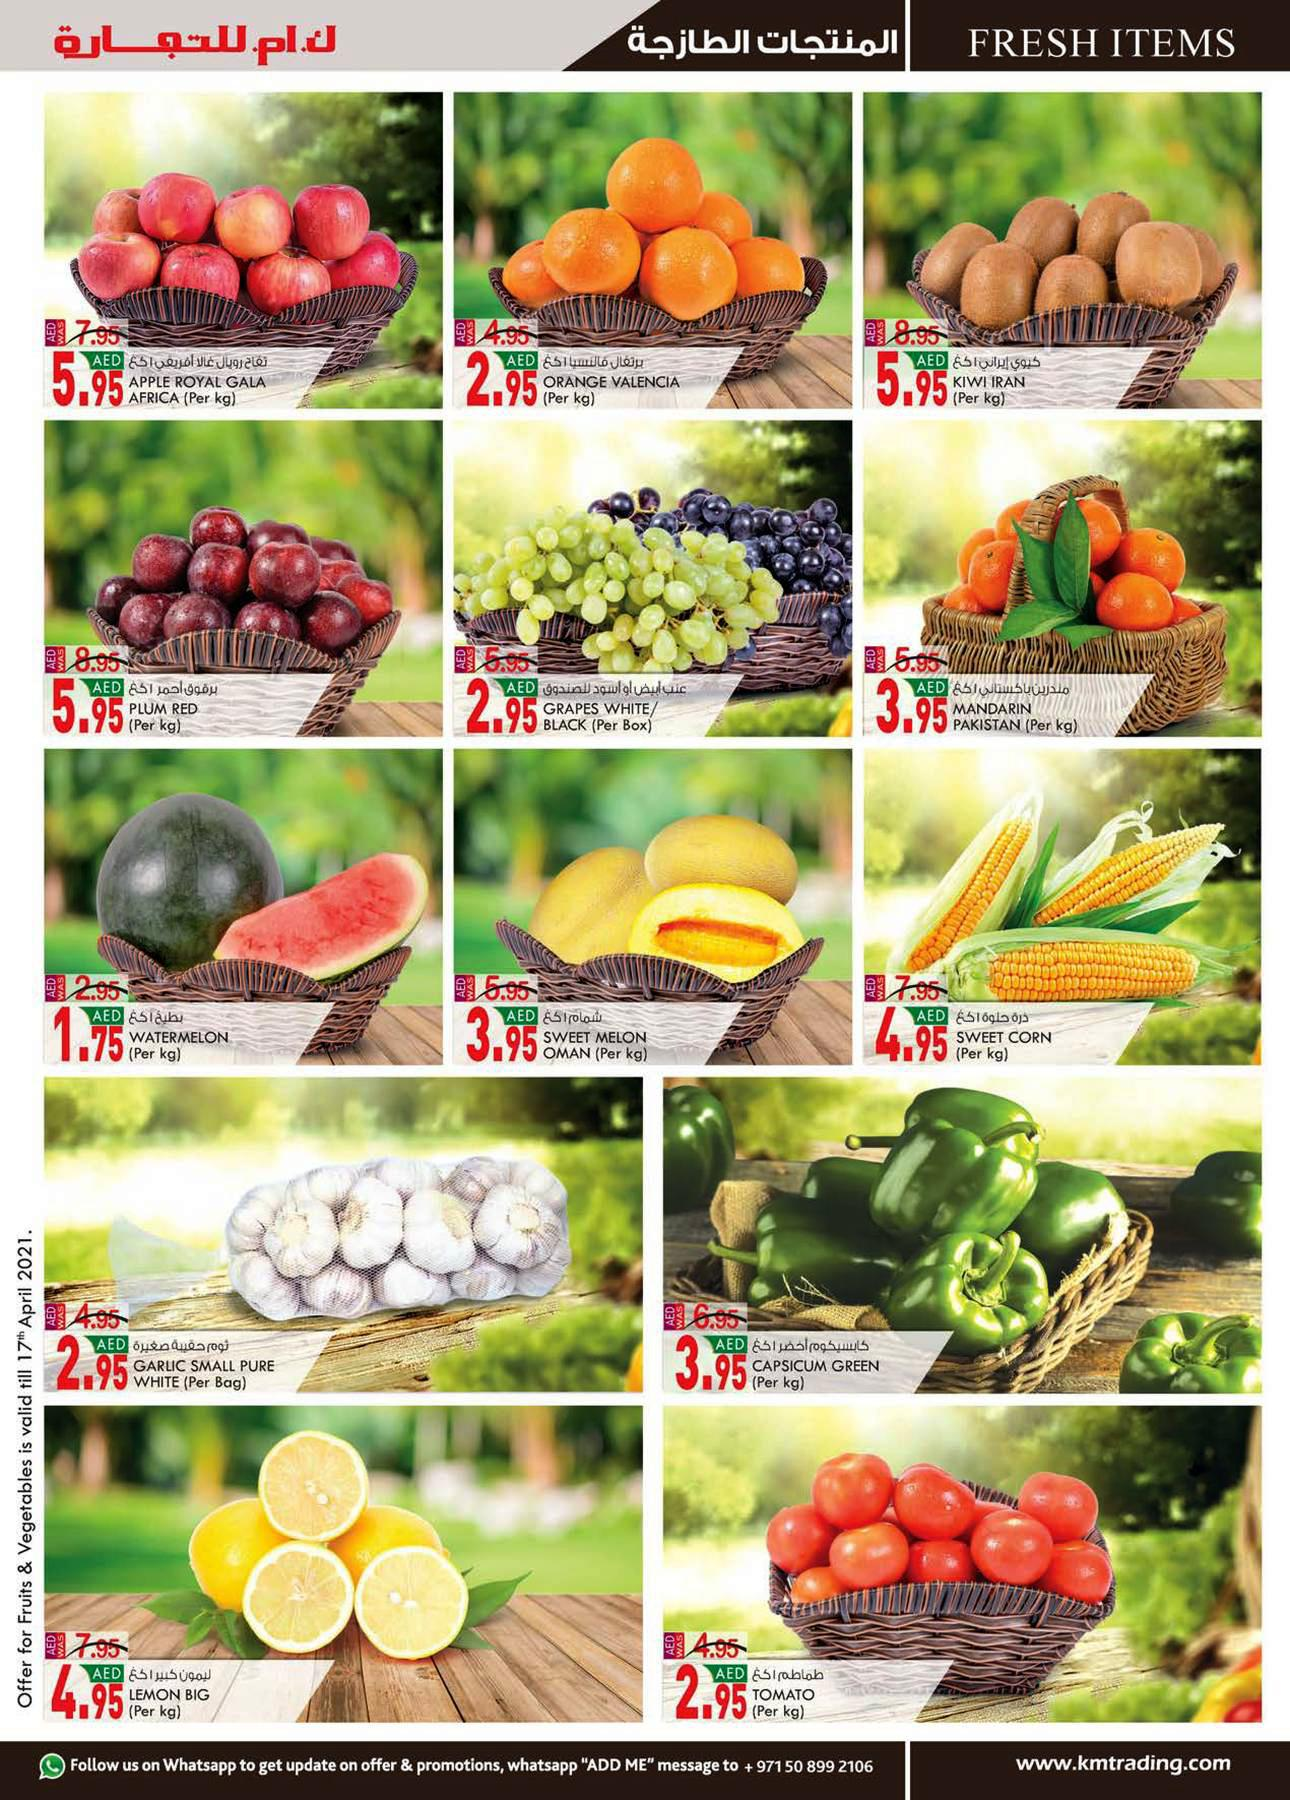text: (126, 350, 286, 414), (542, 347, 704, 410), (130, 1333, 288, 1397), (542, 678, 705, 735), (949, 675, 1097, 737), (747, 1334, 889, 1394), (539, 1005, 676, 1065), (949, 1005, 1078, 1063), (127, 1005, 239, 1067), (949, 347, 1051, 409), (748, 1658, 836, 1727), (126, 1665, 221, 1722)
